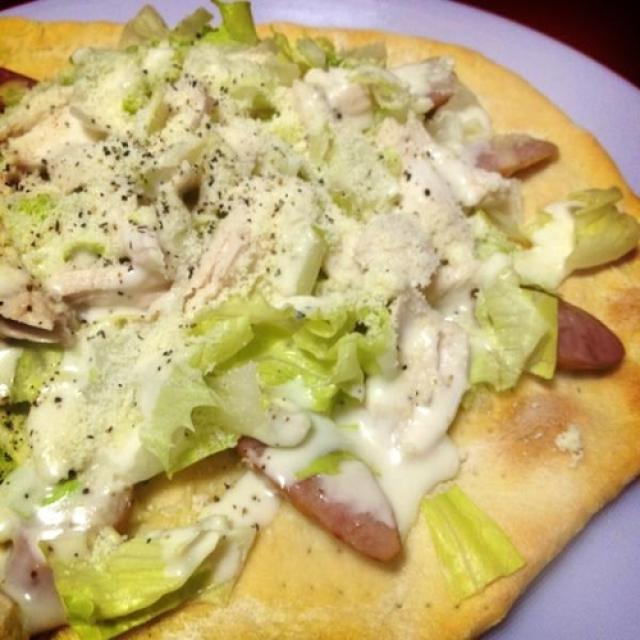蔬菜料理: (5, 8, 623, 604)
